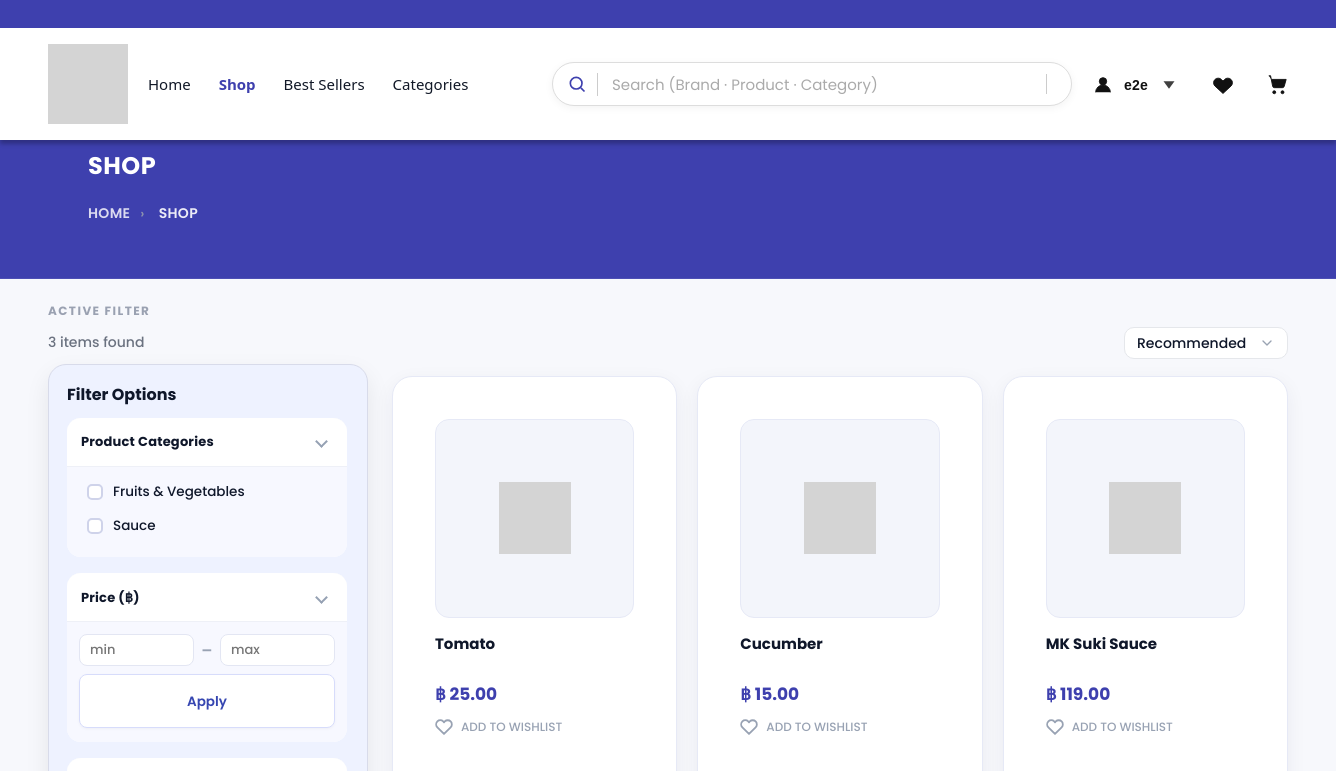
Scenario: Shop Page › sort: price-desc แล้วใบแรกต้องแพงสุด
The width and height of the screenshot is (1336, 771).
Select "High → Low" in the dropdown with id "sort". click: x=1206, y=343
box: [1124, 327, 1288, 359]
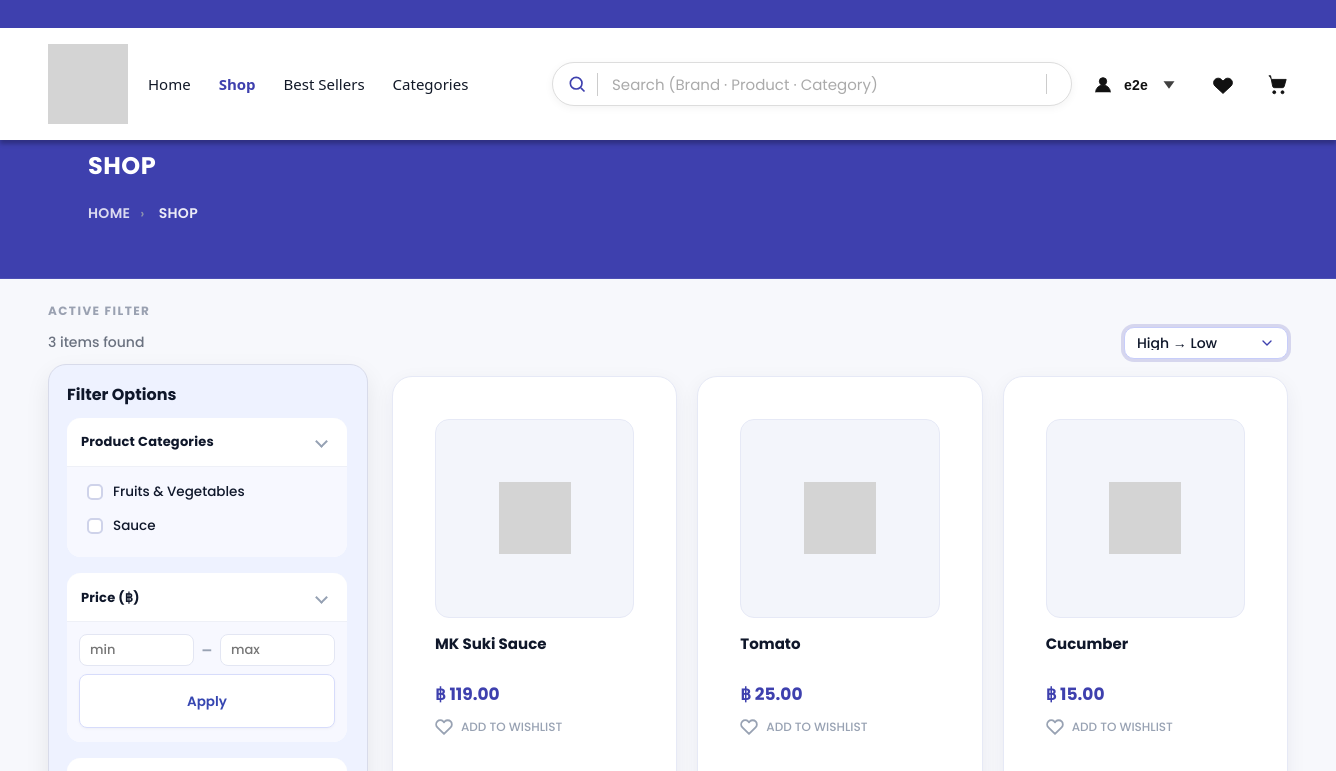
Now the text "฿ 119.00" is shown, box [435, 686, 500, 703]
